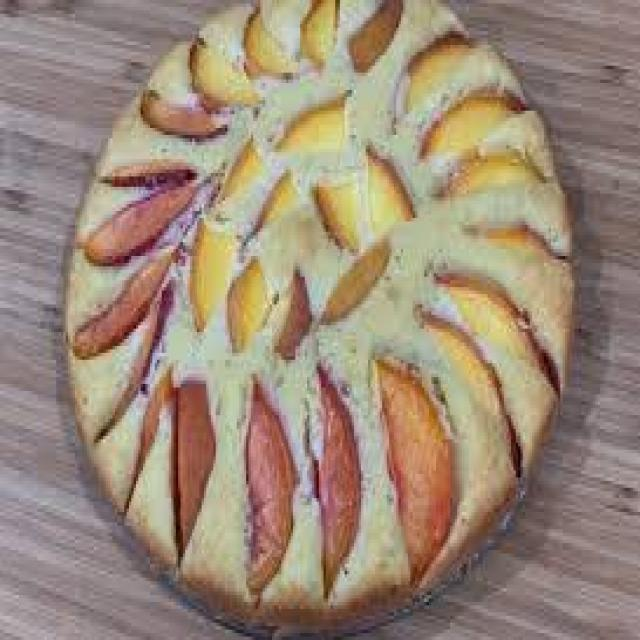organic waste: (59, 0, 579, 637)
